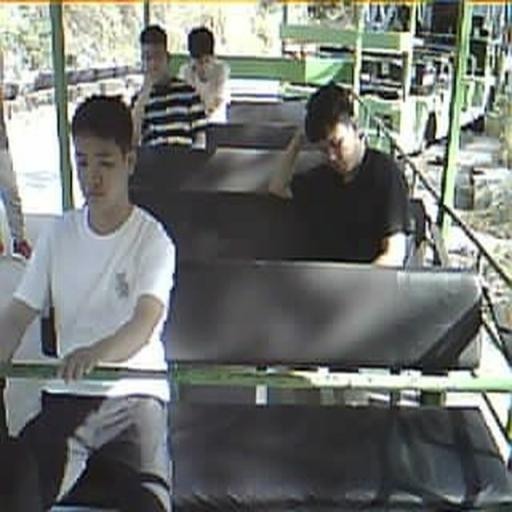persona: (0, 92, 178, 510), (267, 80, 412, 268), (128, 24, 214, 155), (178, 26, 232, 122)
